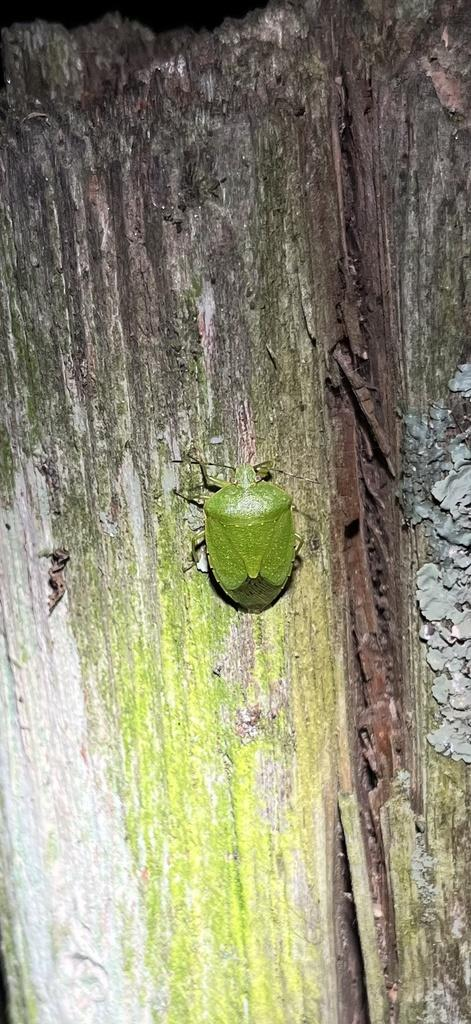stink_bugs: (138, 428, 375, 668)
